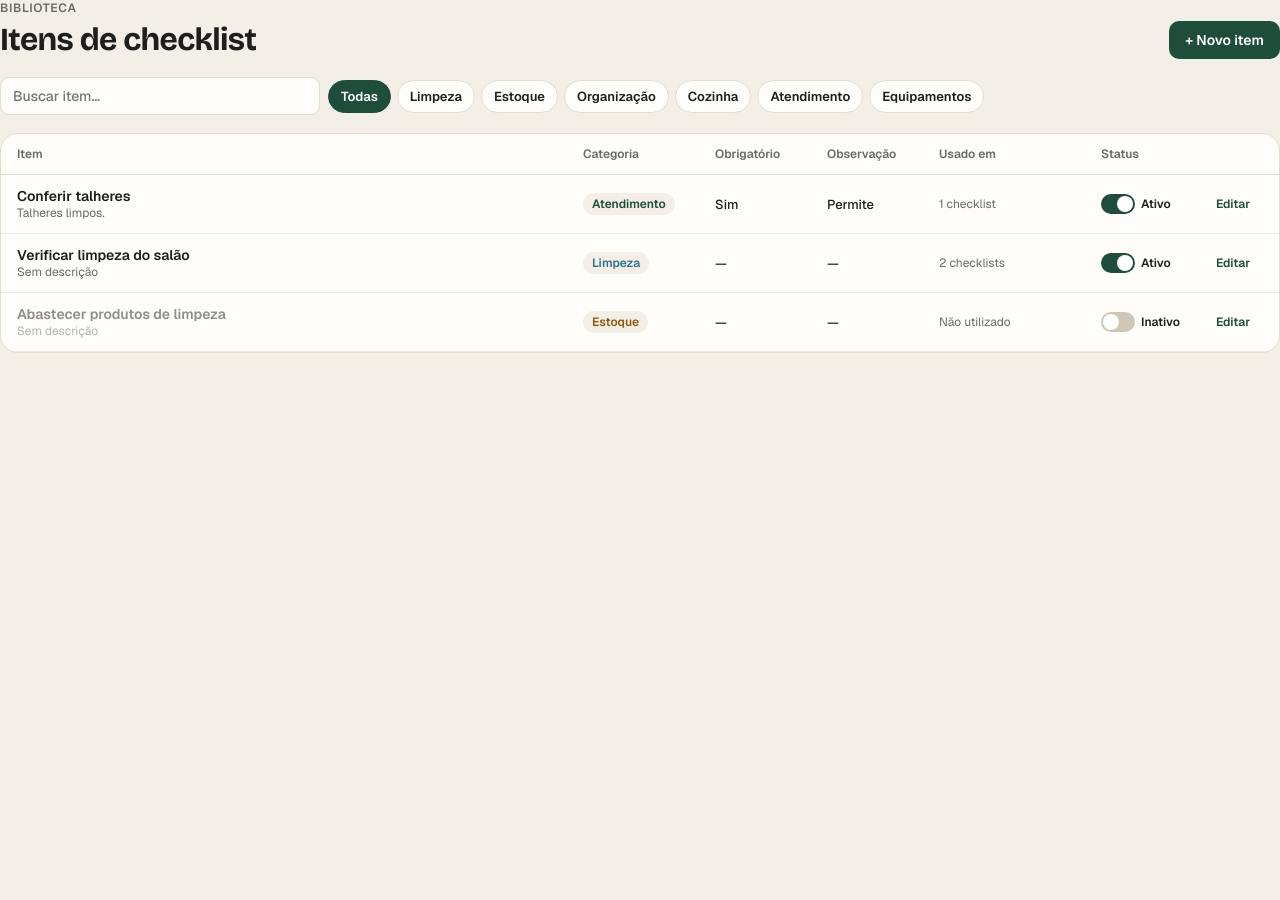
Test: US12 — itens (web) › switch desativa com aviso (sucesso) e overlay fecha o modal (borda)
Click the switch labelled "Ativo" next to "1 checklist" at (1146, 204), box [1101,194,1191,214]
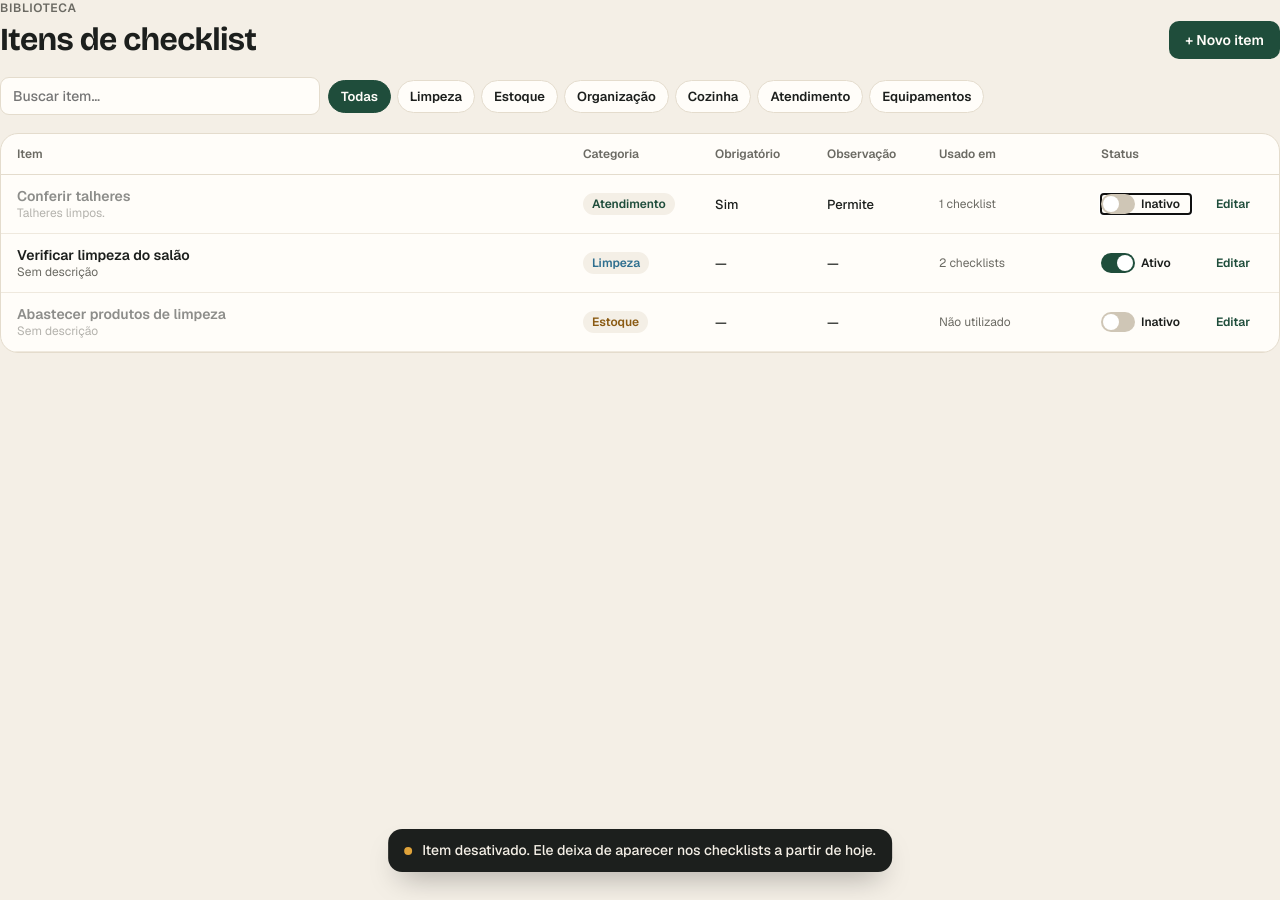
Expected: the message reads "Item desativado. Ele deixa de aparecer nos checklists a partir de hoje.", [422,841,876,859]
Click the button "+ Novo item" at (1225, 40), box [1169,21,1279,59]
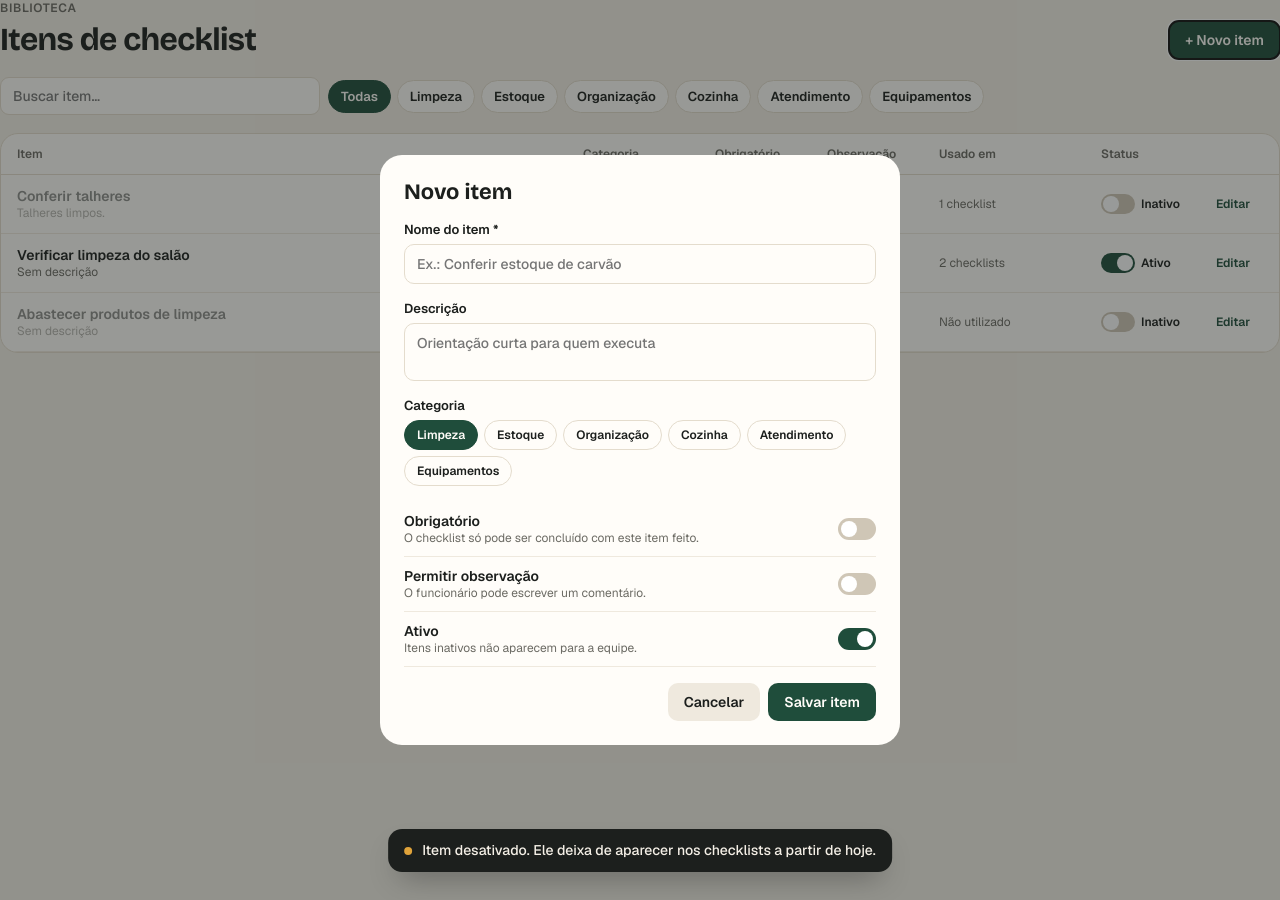
Click the element with test id "modal-overlay" at (77, 450), box [0,0,1279,899]
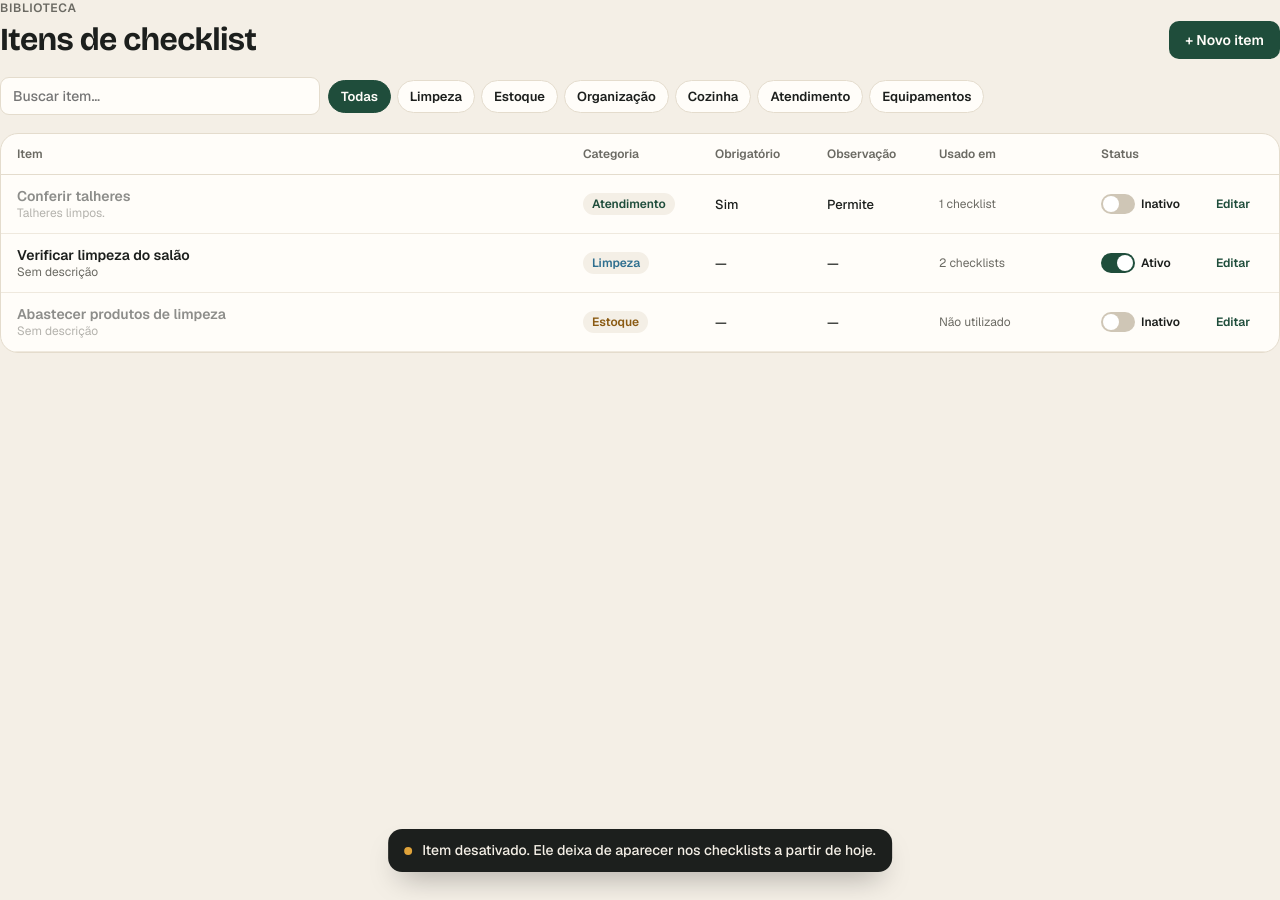
Expected: the dialog is gone
